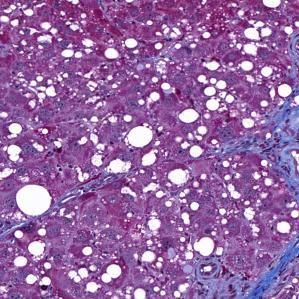fibrosis: (243, 106, 298, 192), (249, 244, 294, 292)
